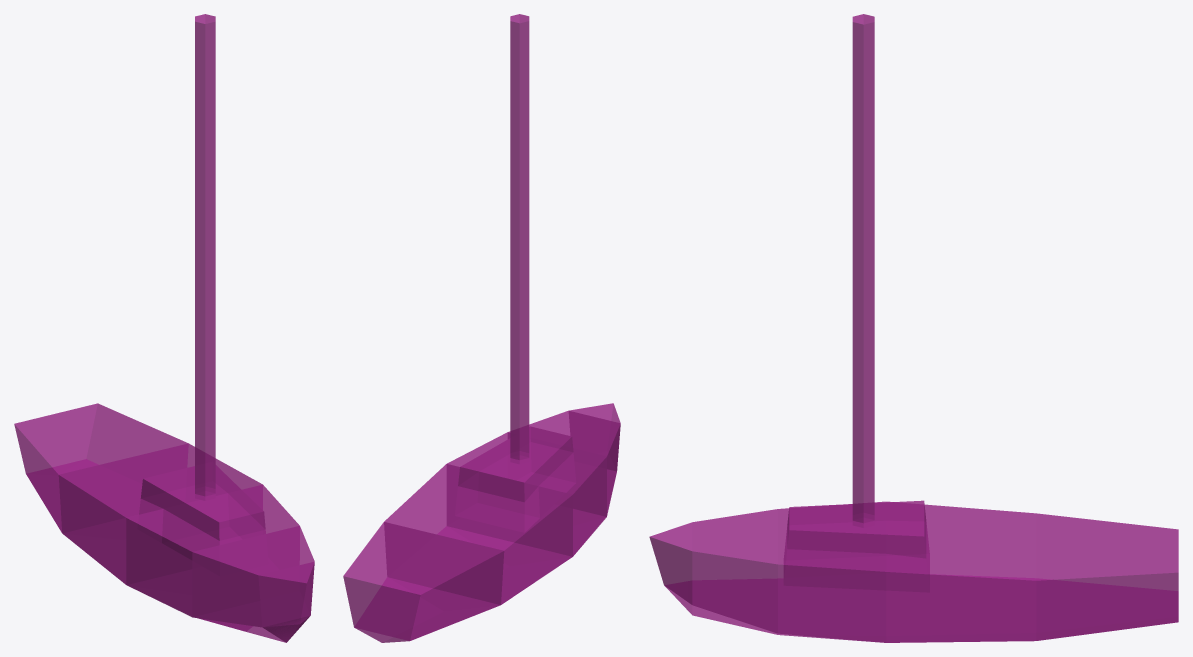
File: SM_Veh_Sailboat_01_Collision.fbx
3 renders of one model, left to right at view 1: azimuth 30°, elevation 25°; view 2: azimuth 150°, elevation 25°; view 3: azimuth 270°, elevation 25°, orthographic. The views are drawn at different scales.
Parts seen in each view (by area): view 1: SM_Veh_Sailboat_01_Collision; view 2: SM_Veh_Sailboat_01_Collision; view 3: SM_Veh_Sailboat_01_Collision.
Part boxes in pixels (x1,y1,x2,y2): SM_Veh_Sailboat_01_Collision: (14,14,314,642); SM_Veh_Sailboat_01_Collision: (343,14,620,642); SM_Veh_Sailboat_01_Collision: (649,14,1178,642).
Bounding box in the file's own units: 339 × 1383 × 1076.
